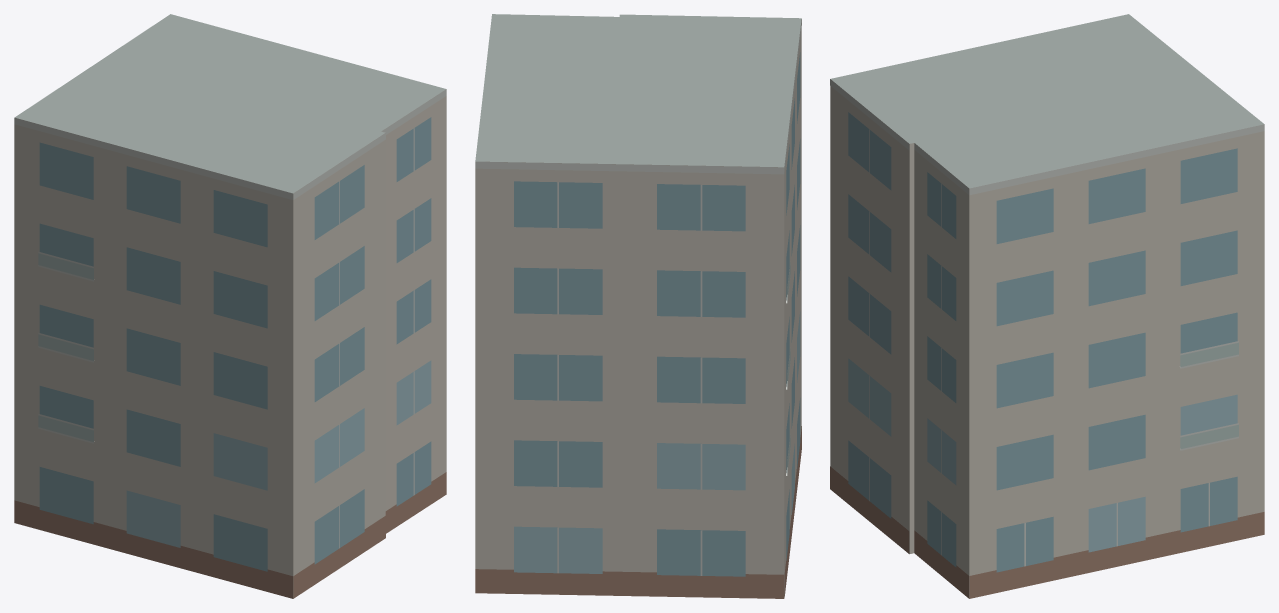
The model's file is survey-upis-32827563.glb.
The picture shows the model from 3 angles, left to right: view 1: azimuth 30°, elevation 25°; view 2: azimuth 150°, elevation 25°; view 3: azimuth 270°, elevation 25°; orthographic projection. The views are drawn at different scales.
Visible parts, largest first — view 1: survey-upis-32827563.tmp; view 2: survey-upis-32827563.tmp; view 3: survey-upis-32827563.tmp.
Part boxes in pixels (x1,y1,x2,y2): survey-upis-32827563.tmp: [14, 14, 446, 598]; survey-upis-32827563.tmp: [475, 14, 801, 598]; survey-upis-32827563.tmp: [830, 14, 1264, 598].
Bounding box in the file's own units: 13.42 × 14.7 × 14.11.
